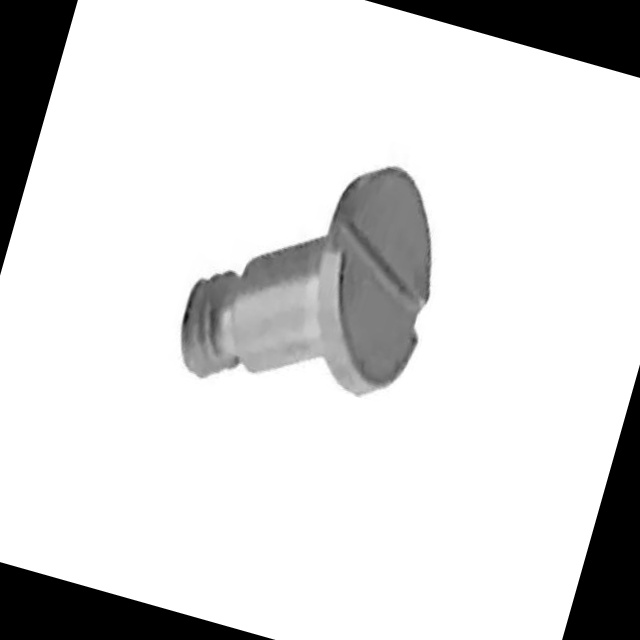duz: (290, 152, 464, 410)
